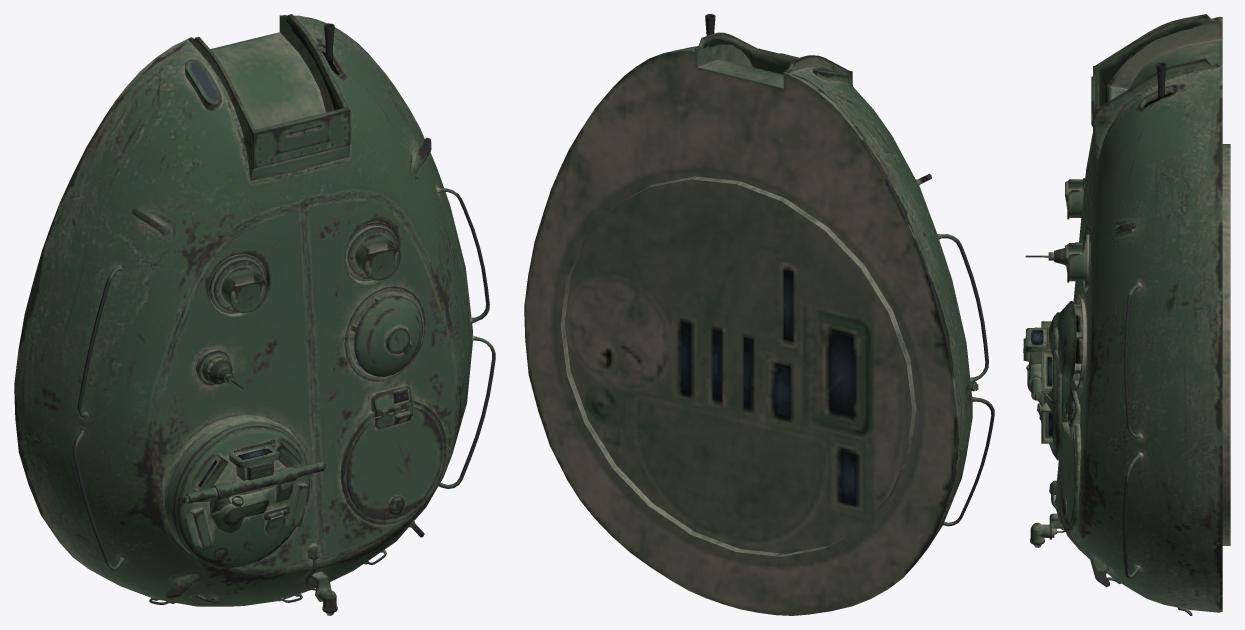
File: Turret_01.glb
3 views of the same model, side by side, from view 1: azimuth 30°, elevation 25°; view 2: azimuth 150°, elevation 25°; view 3: azimuth 270°, elevation 25° (orthographic). The views are drawn at different scales.
Visible parts, largest first — view 1: set_0_group_0; view 2: set_0_group_0; view 3: set_0_group_0.
Boxes of the visible parts, x1,y1,x2,y2 form: set_0_group_0: (14, 14, 495, 615); set_0_group_0: (524, 14, 994, 615); set_0_group_0: (1023, 14, 1230, 615).
Bounding box in the file's own units: 2 × 2.48 × 0.8346.
Materials: 1 (1 with a texture image).
